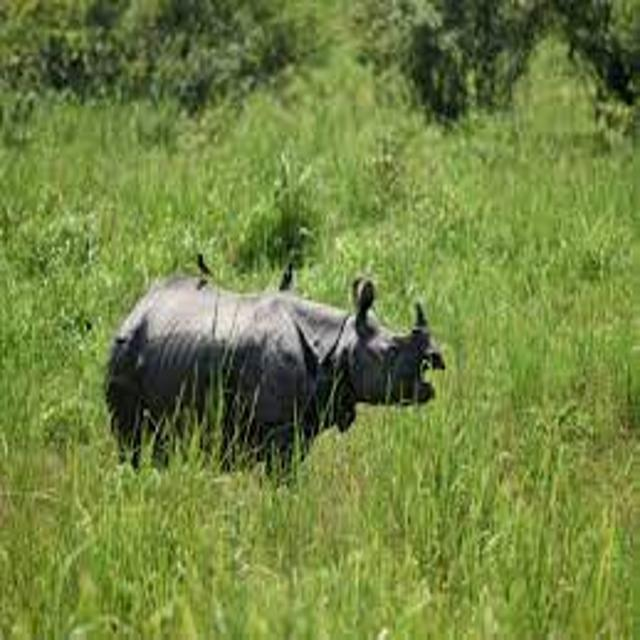rhino: (80, 219, 493, 522)
